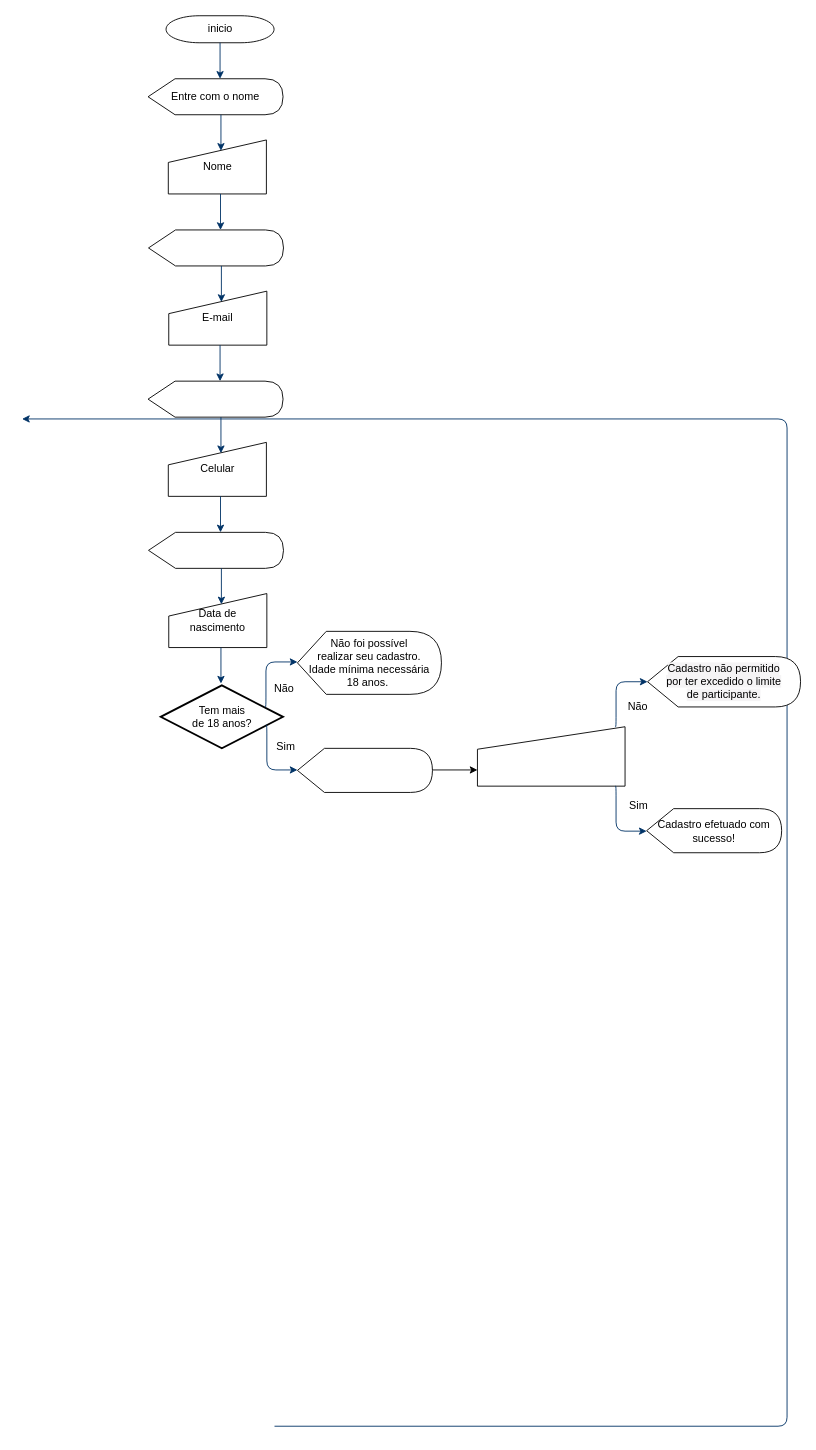
This 816x1450 diagram has some shape labels left out. The box of each missing label's shape, as (x1, y1, x2, y2) in pixels:
Cadastro permitido: (297, 747, 432, 792)
Entre com a data de nascimento: (148, 531, 284, 568)
Entre com o celular: (147, 380, 283, 417)
Entre com o e-mail: (148, 229, 284, 266)
Numero de participantes cadastrados é inferior a 100?: (477, 726, 625, 786)
